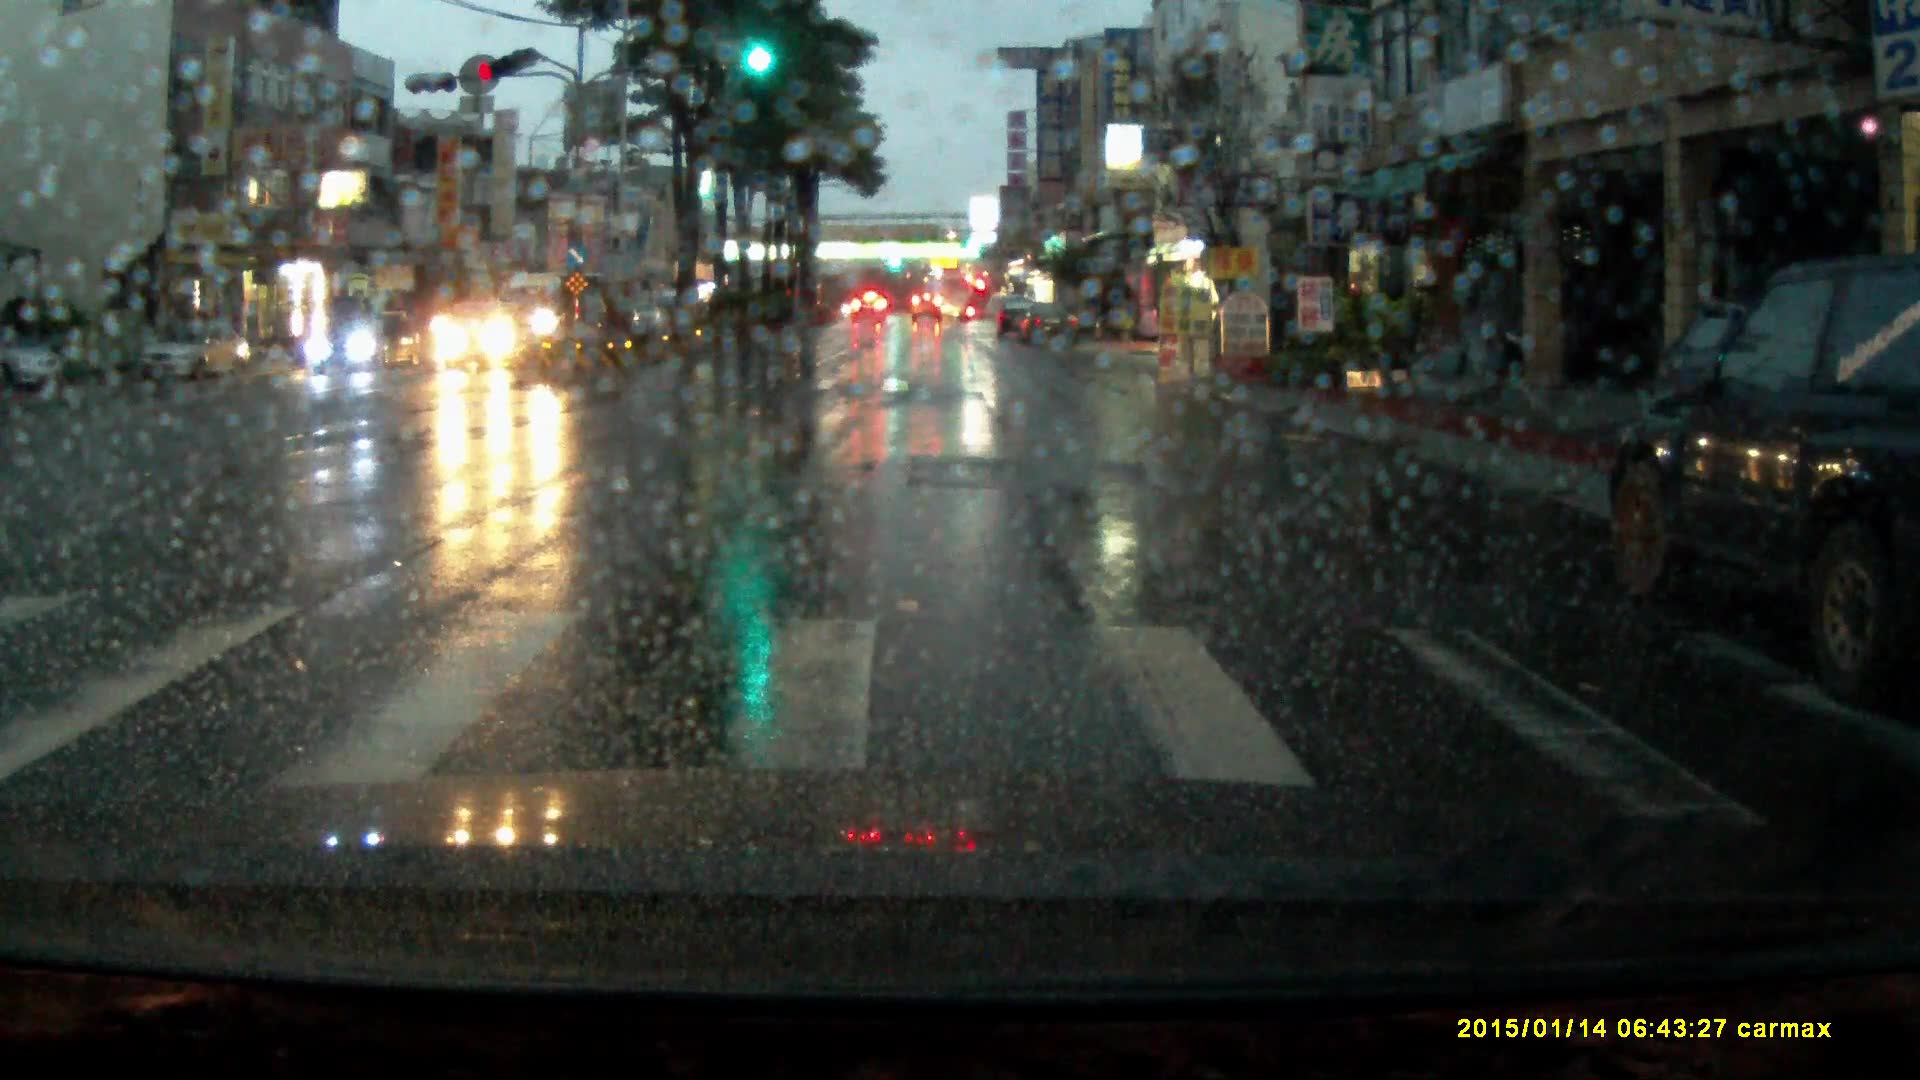vehicle: (1607, 258, 1920, 713), (1652, 305, 1741, 411), (493, 274, 609, 345), (136, 322, 253, 389), (440, 305, 545, 375), (305, 318, 426, 375), (1017, 302, 1084, 353), (1, 339, 69, 388), (996, 297, 1035, 343), (939, 268, 971, 320), (852, 293, 889, 326), (913, 293, 943, 326)
